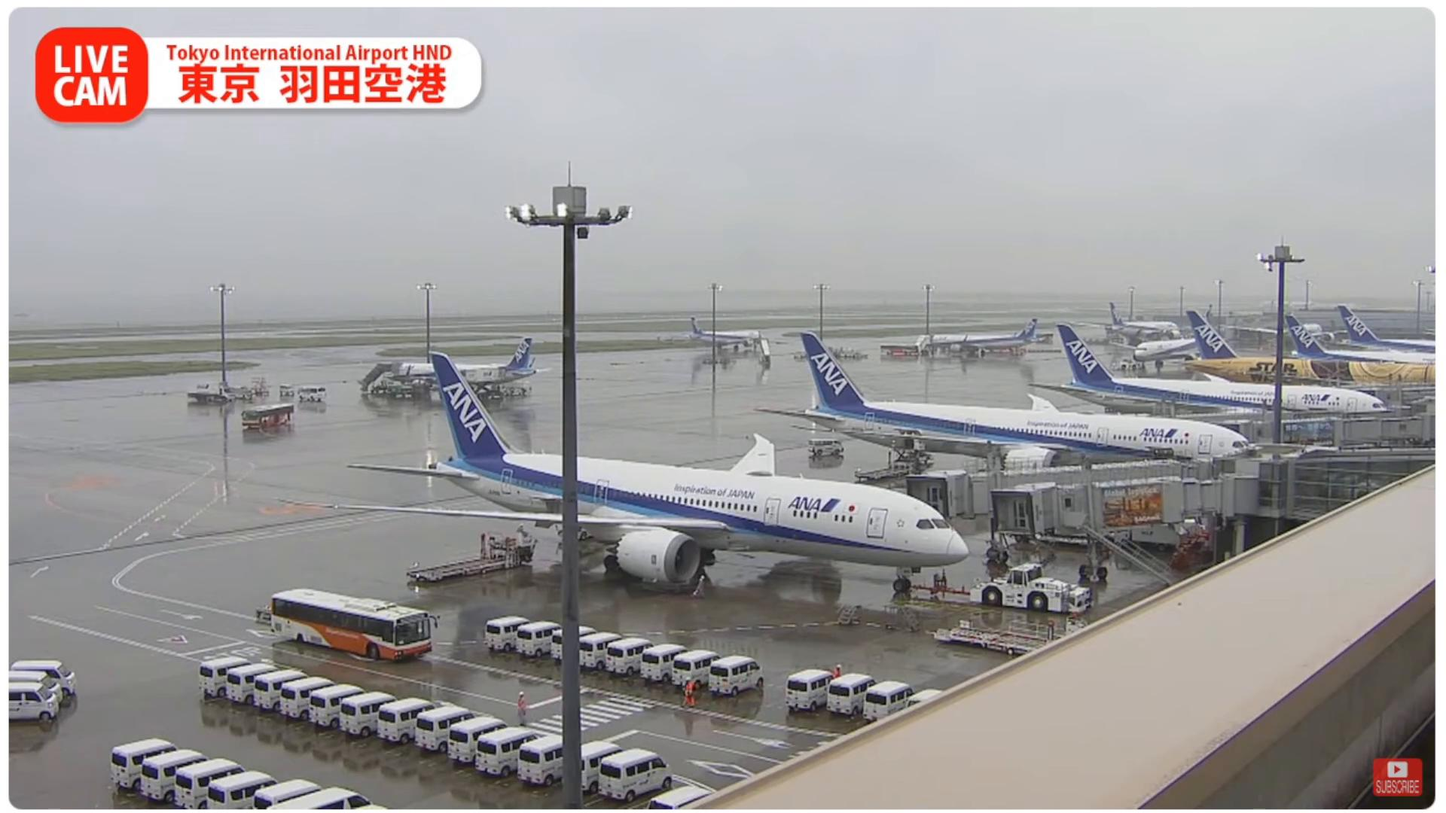APS: (968, 562, 1094, 614)
Aerobridge: (904, 455, 1210, 520), (991, 474, 1261, 535)
Airplane: (270, 351, 970, 592)
JCPL: (399, 527, 535, 584), (924, 615, 1087, 656)
Window: (1292, 458, 1433, 516)
